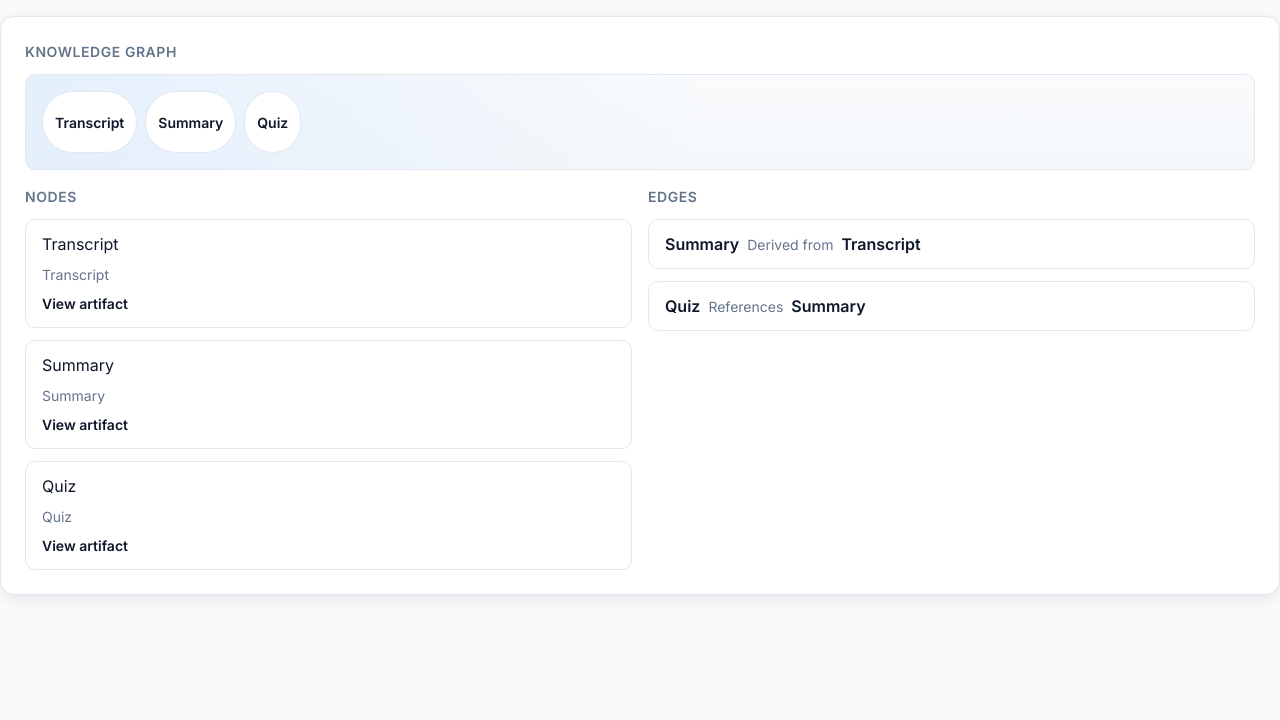
Test: KnowledgeGraphPanel › shows message when neighborhood is not found
Click the button with test id "graph-node-select-550e8400-e29b-41d4-a716-446655440002".
click(78, 365)  # box [42, 353, 615, 406]
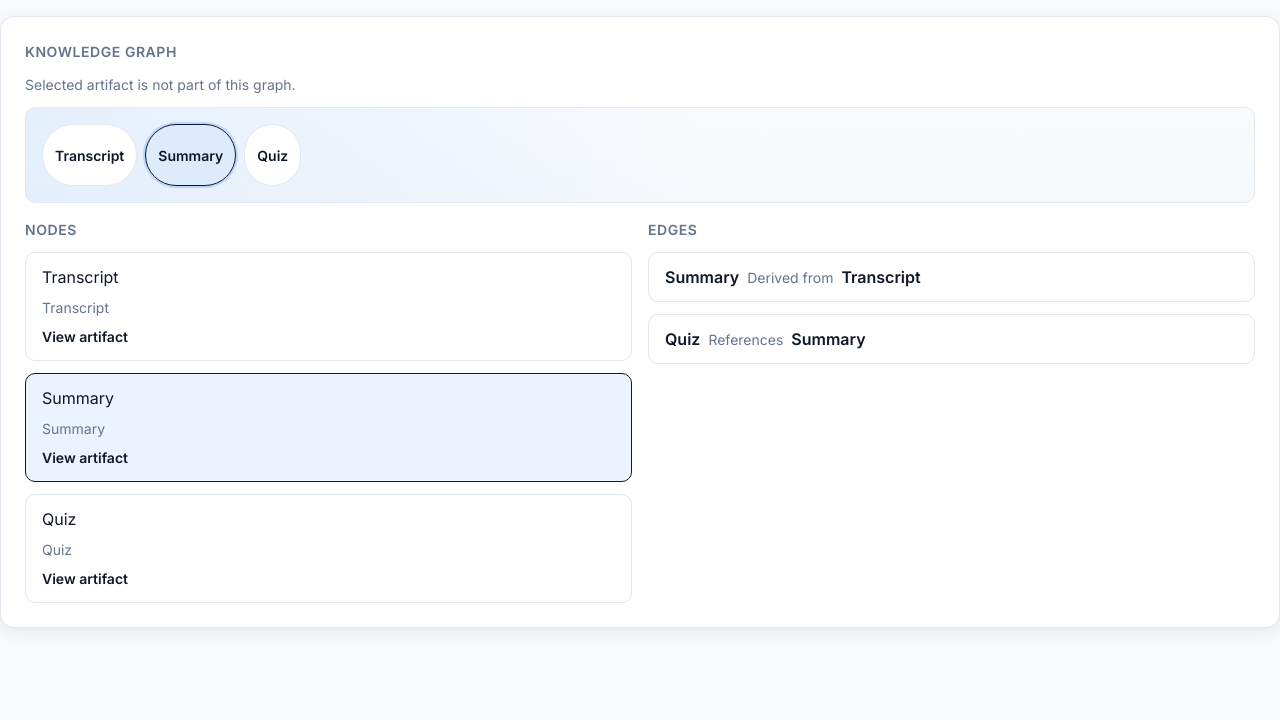
Check: the text "Selected artifact is not part of this graph." is shown, box [25, 76, 296, 93]
